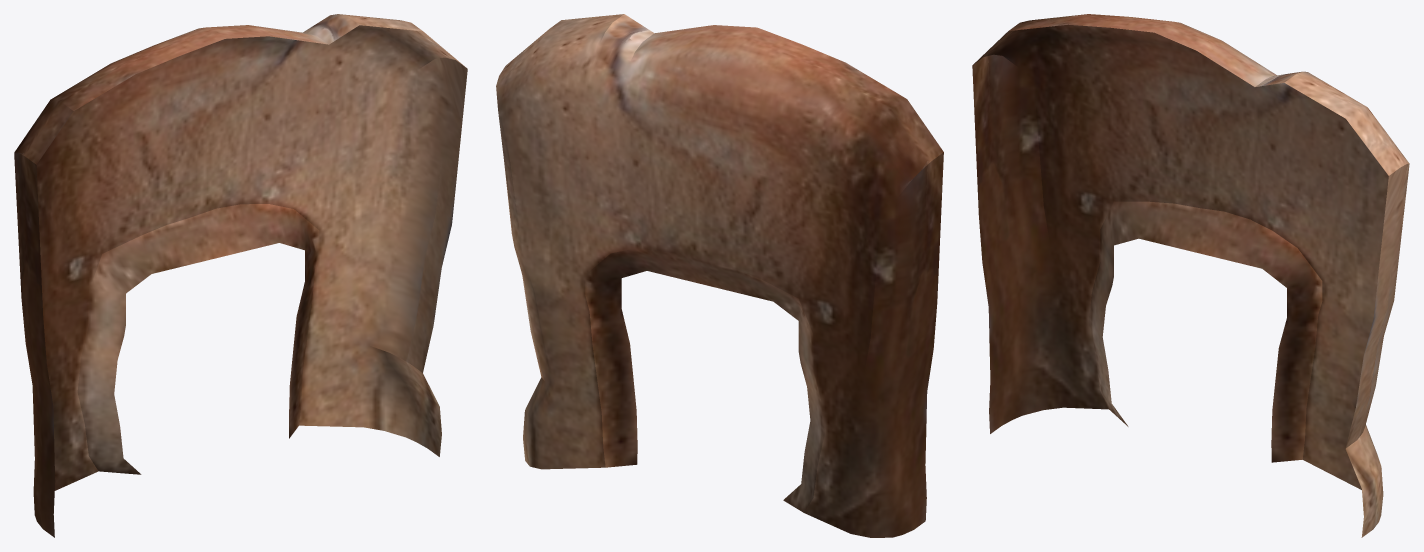
File: mascara valdivia cortada.fbx
The picture shows the model from 3 angles, left to right: view 1: azimuth 30°, elevation 25°; view 2: azimuth 150°, elevation 25°; view 3: azimuth 330°, elevation 25°; orthographic projection. The views are drawn at different scales.
Visible parts, largest first — view 1: mascara valdivia; view 2: mascara valdivia; view 3: mascara valdivia.
Boxes of the visible parts, box(x1,y1,x2,y2) form: mascara valdivia: box(14, 14, 467, 537); mascara valdivia: box(496, 14, 943, 537); mascara valdivia: box(972, 14, 1409, 537).
Bounding box in the file's own units: 27.46 × 4.59 × 28.65.
